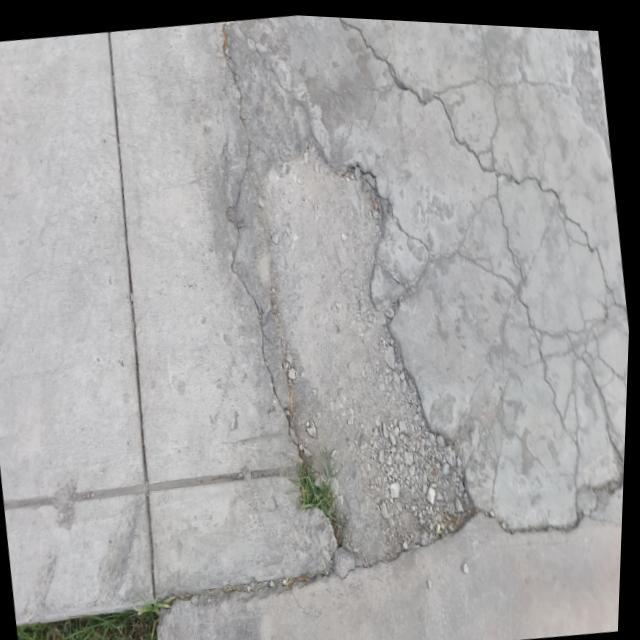hole: (218, 140, 493, 592)
